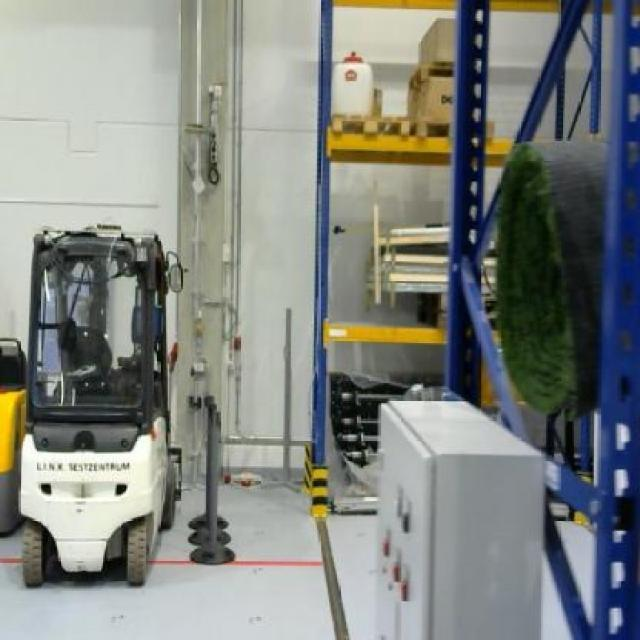box: (410, 75, 453, 131), (418, 17, 458, 63)
